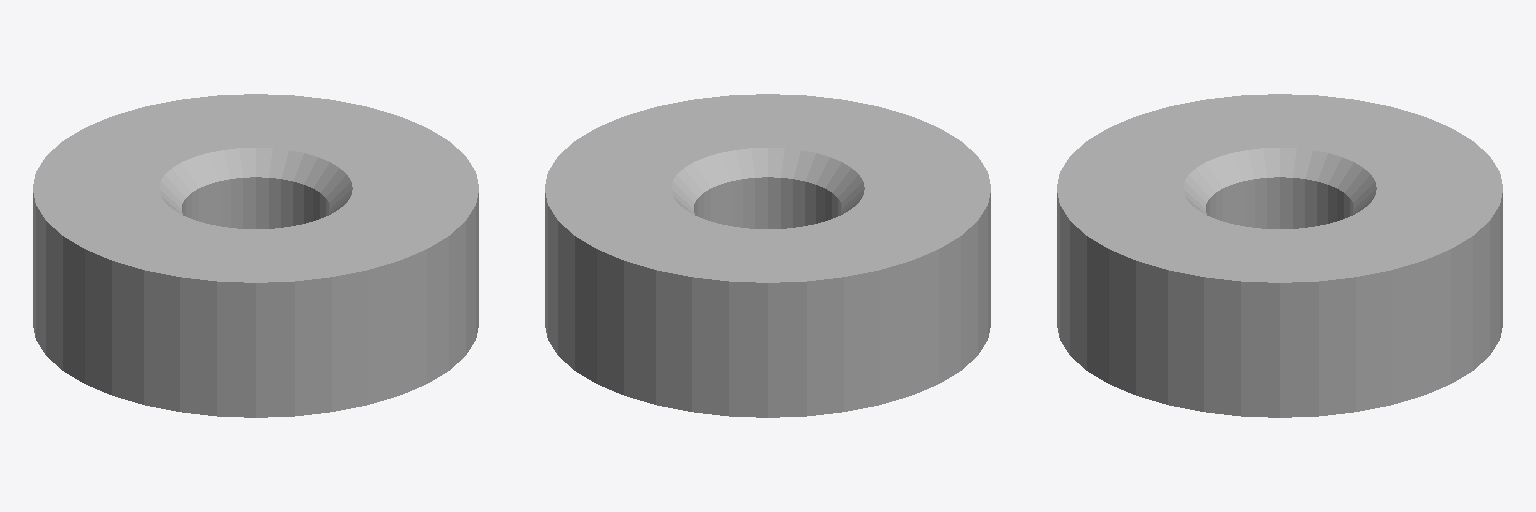
The model's file is Koph.obj.
3 renders of one model, left to right at view 1: azimuth 30°, elevation 25°; view 2: azimuth 150°, elevation 25°; view 3: azimuth 270°, elevation 25°, orthographic.
Size of the model in its own units: 60 by 20 by 60.